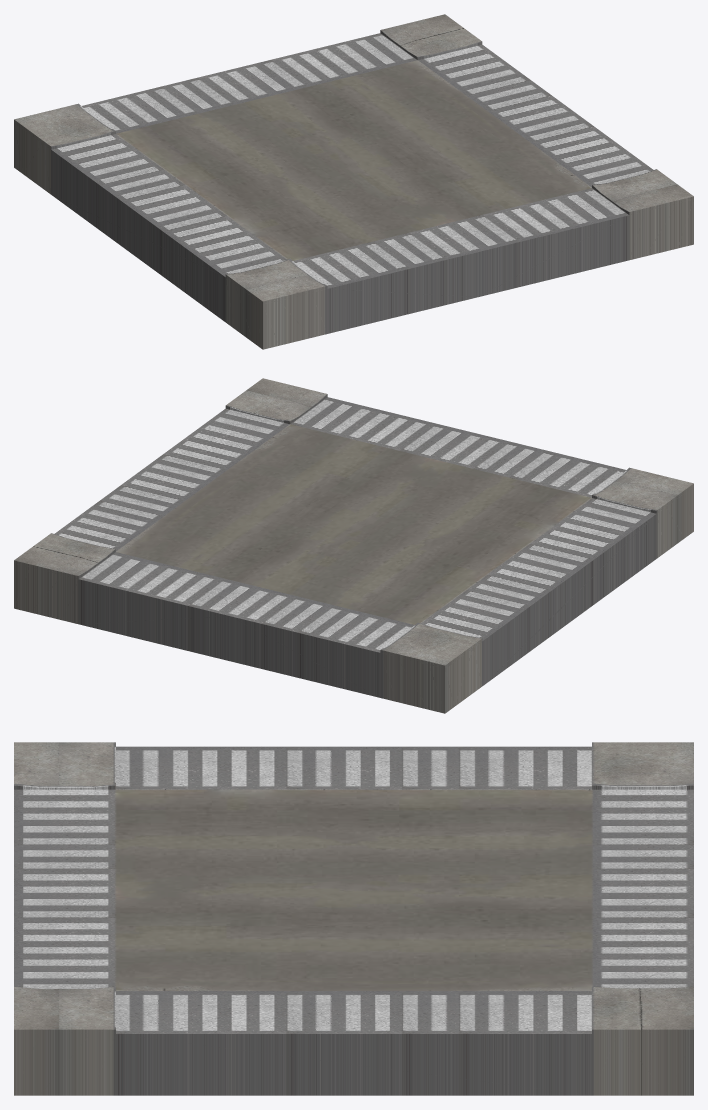
Rendered from street_crossroad.glb.
3 views of the same model, one above another, from view 1: azimuth 30°, elevation 25°; view 2: azimuth 150°, elevation 25°; view 3: azimuth 270°, elevation 25° (orthographic). The views are drawn at different scales.
Parts seen in each view (by area): view 1: street_crossroad; view 2: street_crossroad; view 3: street_crossroad.
Boxes of the visible parts, x1,y1,x2,y2 form: street_crossroad: (14, 14, 693, 349); street_crossroad: (14, 378, 693, 713); street_crossroad: (14, 742, 693, 1095).
Bounding box in the file's own units: 20 × 2.14 × 20.
1 material, 1 textured.
